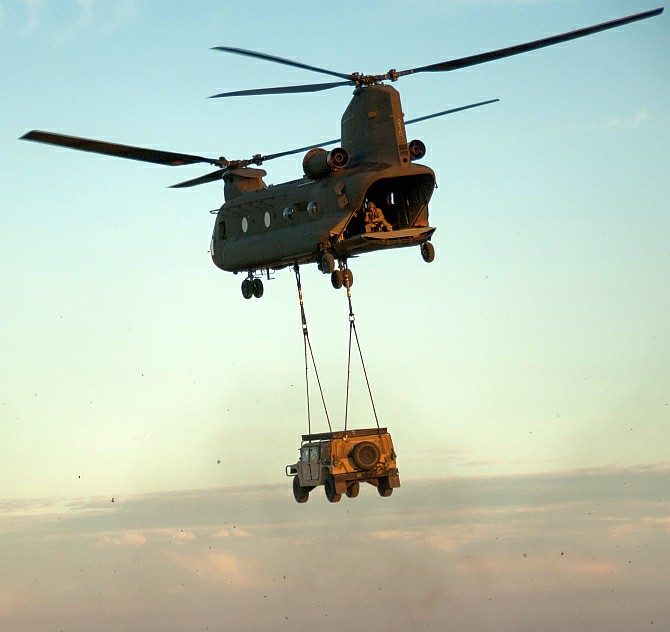HMMWV: (284, 423, 409, 510)
chinook: (94, 44, 546, 289)
